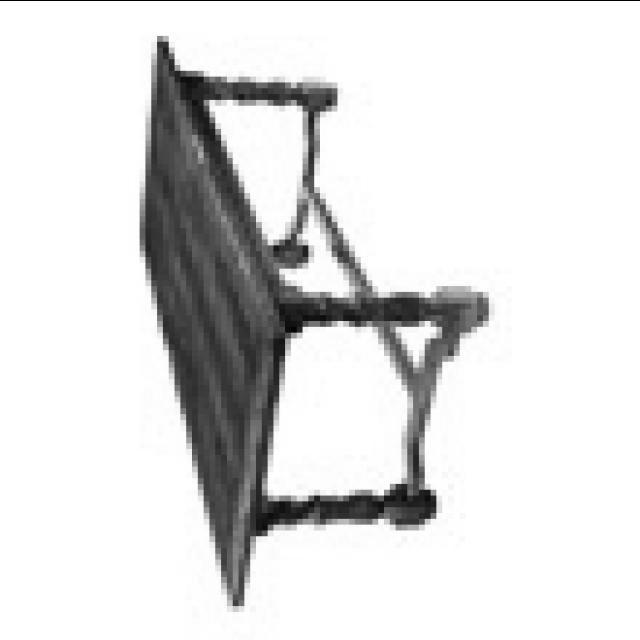table: (136, 34, 484, 606)
